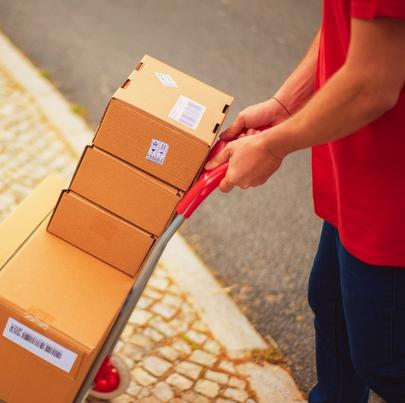DeliveryBox: (33, 52, 236, 294)
Person: (229, 4, 405, 403)
